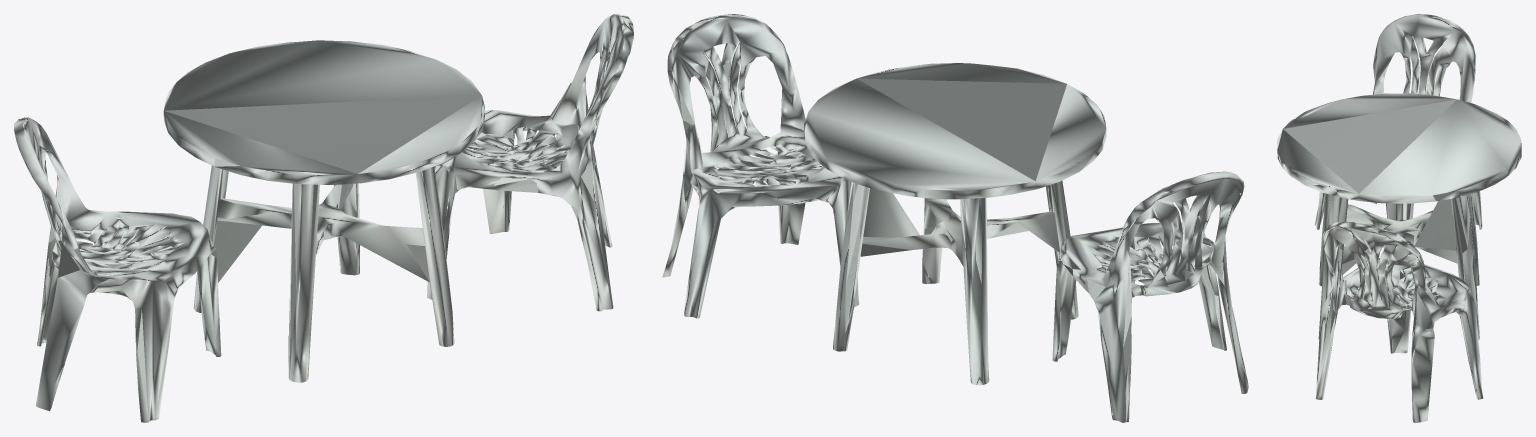
The model's file is fv_table_chairs.glb.
The picture shows the model from 3 angles, left to right: view 1: azimuth 30°, elevation 25°; view 2: azimuth 150°, elevation 25°; view 3: azimuth 270°, elevation 25°; orthographic projection. The views are drawn at different scales.
Visible parts, largest first — view 1: fv_table_chairs; view 2: fv_table_chairs; view 3: fv_table_chairs.
Boxes of the visible parts, x1,y1,x2,y2 form: fv_table_chairs: (14, 14, 633, 422); fv_table_chairs: (662, 14, 1248, 422); fv_table_chairs: (1277, 14, 1521, 422).
Bounding box in the file's own units: 1.4 × 0.5601 × 0.6495.
Materials: 1 (1 with a texture image).
